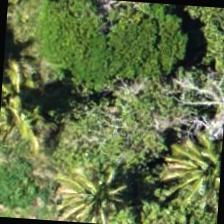Kelapa_Sawit: (132, 121, 222, 218), (29, 143, 126, 223), (0, 64, 68, 159)
